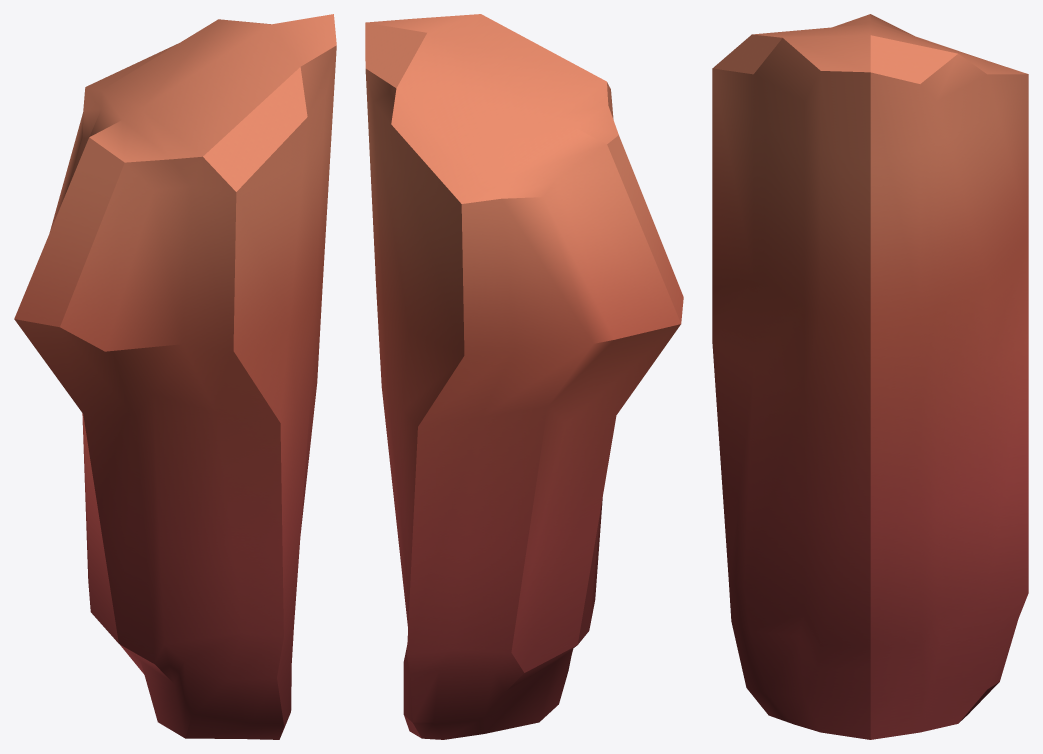
File: SM_Cliffs_V02.fbx
3 views of the same model, side by side, from view 1: azimuth 30°, elevation 25°; view 2: azimuth 150°, elevation 25°; view 3: azimuth 270°, elevation 25° (orthographic). The views are drawn at different scales.
Parts seen in each view (by area): view 1: SM_Cliff_V02_C01_01; view 2: SM_Cliff_V02_C01_01; view 3: SM_Cliff_V02_C01_01.
Part boxes in pixels (bbox=[...]): SM_Cliff_V02_C01_01: bbox=[14, 14, 336, 739]; SM_Cliff_V02_C01_01: bbox=[365, 14, 683, 739]; SM_Cliff_V02_C01_01: bbox=[712, 14, 1028, 739].
Bounding box in the file's own units: 391 × 783 × 320.
